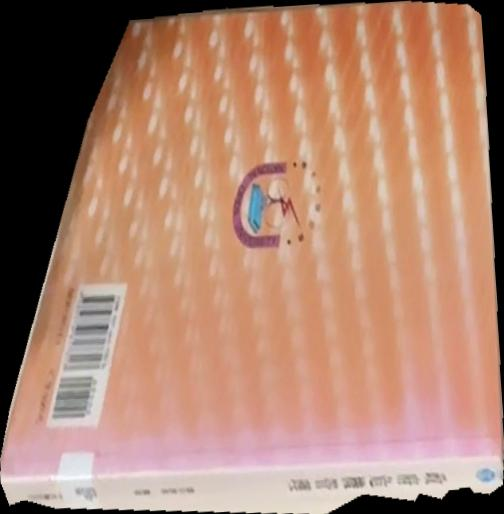flat: (1, 1, 504, 514)
